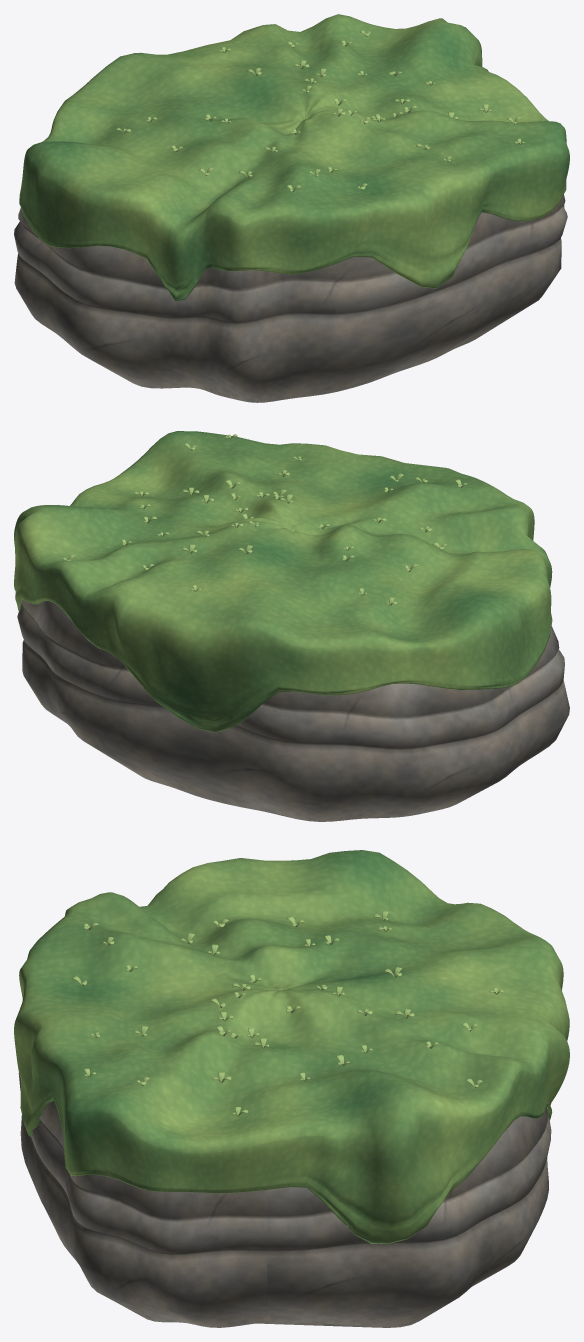
The model's file is SM_Valley_MossPromontory.fbx.
3 renders of one model, top to bottom at view 1: azimuth 30°, elevation 25°; view 2: azimuth 150°, elevation 25°; view 3: azimuth 270°, elevation 25°, orthographic. The views are drawn at different scales.
Visible parts, largest first — view 1: SM_Valley_MossPromontory; view 2: SM_Valley_MossPromontory; view 3: SM_Valley_MossPromontory.
Boxes of the visible parts, <box> form: SM_Valley_MossPromontory: <box>14,14,569,402</box>; SM_Valley_MossPromontory: <box>14,431,569,821</box>; SM_Valley_MossPromontory: <box>14,850,569,1327</box>.
Bounding box in the file's own units: 293 × 240 × 132.
3 materials, 2 textured.
